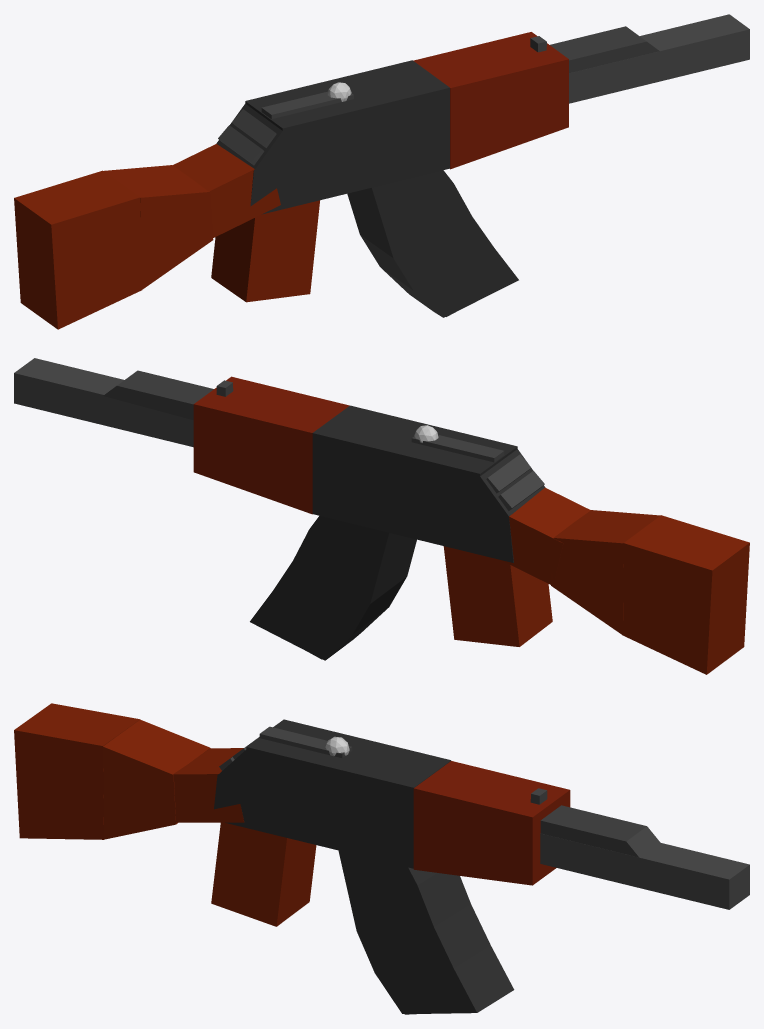
File: angel king.obj
The picture shows the model from 3 angles, top to bottom: view 1: azimuth 30°, elevation 25°; view 2: azimuth 150°, elevation 25°; view 3: azimuth 330°, elevation 25°; orthographic projection.
Visible parts, largest first — view 1: Cube.004, Cube.010, mag_Cube.006, Cube.001, Cube.007, Cube.003, Cube.009, Cube.008, Cube.002, Cube.005, Cube.013, Cube.011 (+1 smaller); view 2: Cube.004, Cube.010, mag_Cube.006, Cube.001, Cube.007, Cube.003, Cube.009, Cube.008, Cube.002, Cube.005, Cube.013, Cube.011 (+1 smaller); view 3: Cube.004, mag_Cube.006, Cube.001, Cube.010, Cube.003, Cube.009, Cube.007, Cube.002, Cube.008, Cube.005, Cube.013.
Part boxes in pixels (left/top/right/bottom): Cube.004: left=245, top=60, right=449, bottom=209; Cube.010: left=14, top=170, right=142, bottom=329; mag_Cube.006: left=347, top=170, right=518, bottom=317; Cube.001: left=413, top=32, right=568, bottom=169; Cube.007: left=211, top=200, right=319, bottom=302; Cube.003: left=569, top=14, right=749, bottom=103; Cube.009: left=103, top=165, right=213, bottom=289; Cube.008: left=173, top=144, right=280, bottom=237; Cube.002: left=550, top=26, right=659, bottom=73; Cube.005: left=216, top=103, right=284, bottom=214; Cube.013: left=261, top=91, right=353, bottom=119; Cube.011: left=218, top=125, right=264, bottom=165; Cube.004: left=312, top=405, right=517, bottom=554; Cube.010: left=622, top=515, right=749, bottom=674; mag_Cube.006: left=250, top=516, right=416, bottom=660; Cube.001: left=193, top=376, right=349, bottom=514; Cube.007: left=443, top=546, right=552, bottom=646; Cube.003: left=14, top=358, right=193, bottom=447; Cube.009: left=551, top=510, right=660, bottom=635; Cube.008: left=501, top=487, right=590, bottom=584; Cube.002: left=103, top=370, right=213, bottom=419; Cube.005: left=478, top=449, right=545, bottom=562; Cube.013: left=411, top=435, right=504, bottom=462; Cube.011: left=498, top=471, right=544, bottom=510; Cube.004: left=246, top=719, right=451, bottom=868; mag_Cube.006: left=338, top=850, right=514, bottom=1014; Cube.001: left=413, top=761, right=570, bottom=885; Cube.010: left=14, top=703, right=139, bottom=839; Cube.003: left=540, top=833, right=749, bottom=909; Cube.009: left=103, top=719, right=210, bottom=839; Cube.007: left=211, top=822, right=316, bottom=926; Cube.002: left=540, top=805, right=660, bottom=857; Cube.008: left=173, top=748, right=244, bottom=822; Cube.005: left=214, top=750, right=248, bottom=828; Cube.013: left=259, top=726, right=352, bottom=757.
Bounding box in the file's own units: 21.72 × 7.17 × 2.16.
